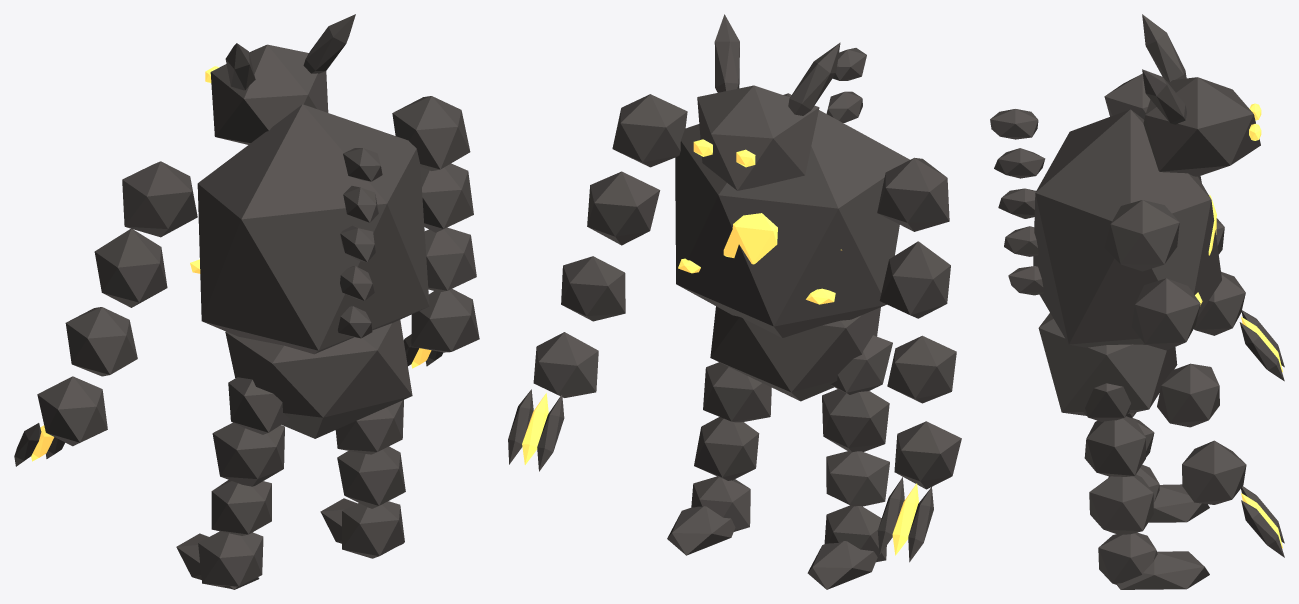
The model's file is wb_ash_fiend_lod1.glb.
3 views of the same model, side by side, from view 1: azimuth 30°, elevation 25°; view 2: azimuth 150°, elevation 25°; view 3: azimuth 270°, elevation 25° (orthographic). The views are drawn at different scales.
Parts seen in each view (by area): view 1: wb_ash_fiend; view 2: wb_ash_fiend; view 3: wb_ash_fiend.
Boxes of the visible parts, box(x1,y1,x2,y2) form: wb_ash_fiend: box(14, 14, 479, 589); wb_ash_fiend: box(508, 14, 961, 589); wb_ash_fiend: box(990, 14, 1284, 589).
Bounding box in the file's own units: 1.96 × 2.37 × 1.23.
